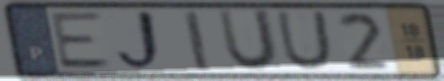2: (335, 10, 394, 71)
E: (48, 10, 115, 71)
I: (181, 9, 212, 73)
J: (113, 7, 168, 73)
U: (215, 7, 281, 74), (274, 9, 335, 72)
